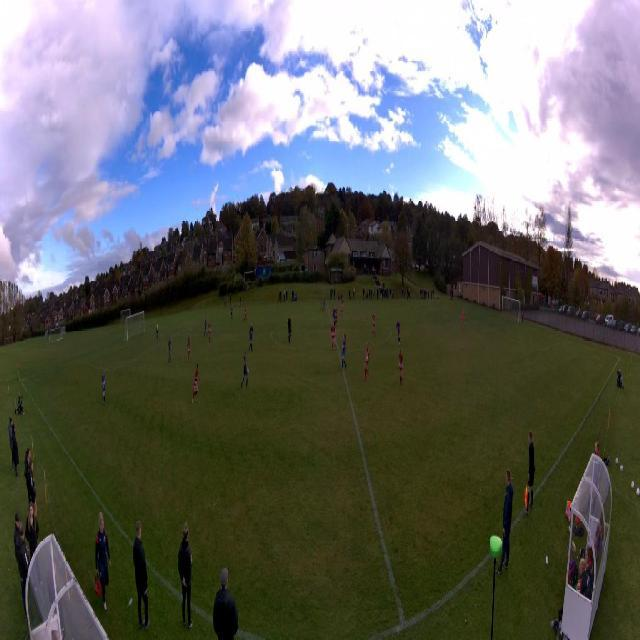ball: (247, 368, 249, 375)
player: (241, 349, 249, 391), (363, 340, 370, 382), (192, 364, 199, 404), (398, 346, 404, 387), (341, 334, 347, 368), (248, 322, 254, 350), (330, 322, 336, 350), (287, 315, 292, 343), (396, 318, 401, 345), (102, 371, 106, 402), (187, 336, 191, 364), (168, 335, 172, 363), (372, 310, 376, 337), (204, 316, 208, 337), (322, 296, 327, 312), (243, 305, 247, 323), (208, 319, 211, 343), (340, 297, 344, 314), (333, 305, 336, 325), (335, 306, 338, 326), (462, 309, 465, 328), (156, 322, 159, 340), (230, 306, 232, 321)
